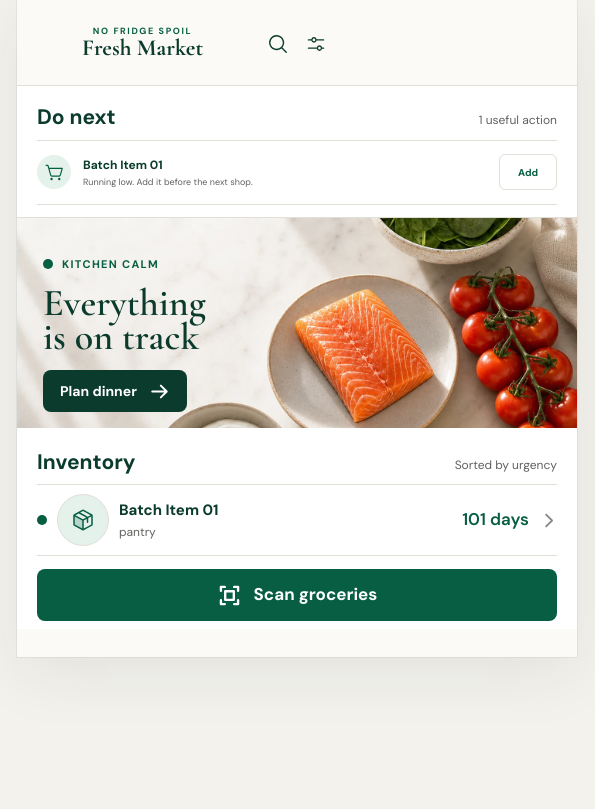
Inventory local-calendar actions › exposes the grocery search field with an accessible name
Click the button named "search inventory": (278, 44) [260,24,296,64]
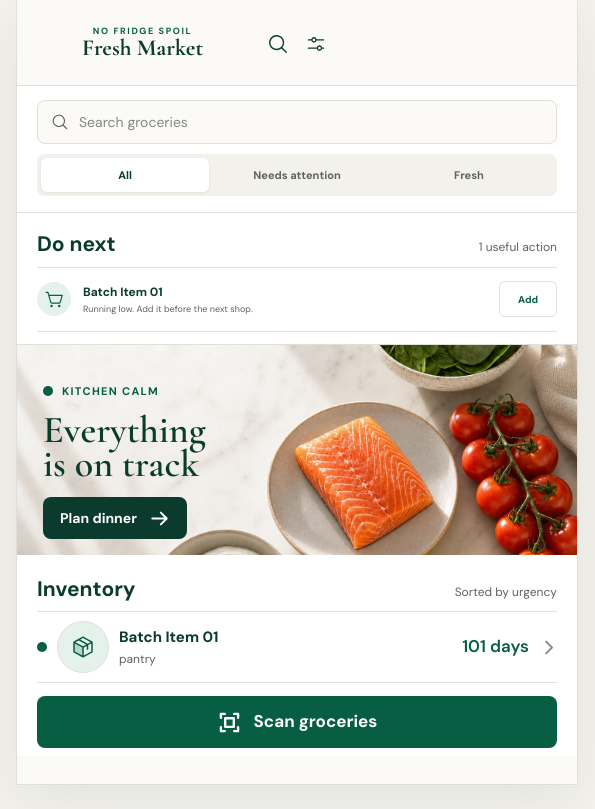
Expected: the field labelled "Search groceries" is shown, [79,112,543,132]
Click the button named "filter inventory": (316, 44) [298,24,334,64]
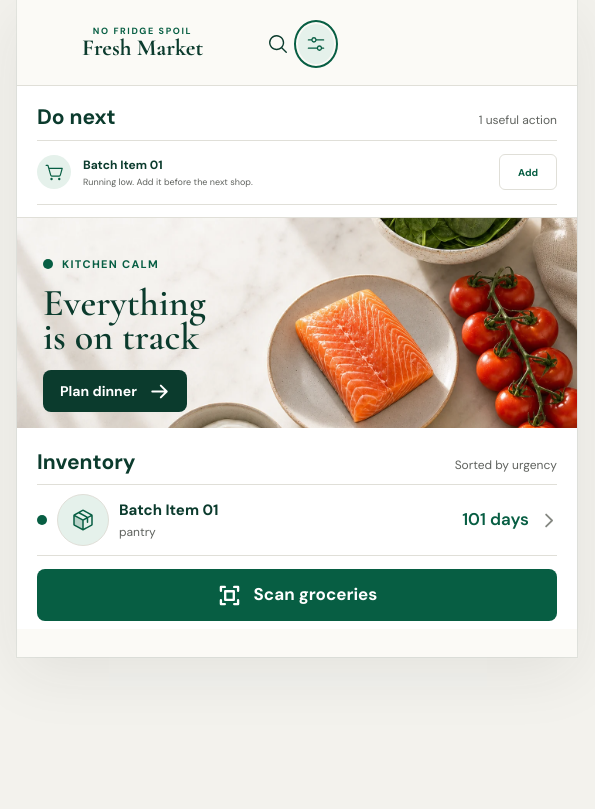
Expected: the field labelled "search groceries" is not shown
Click the button named "filter inventory": (316, 44) [298,24,334,64]
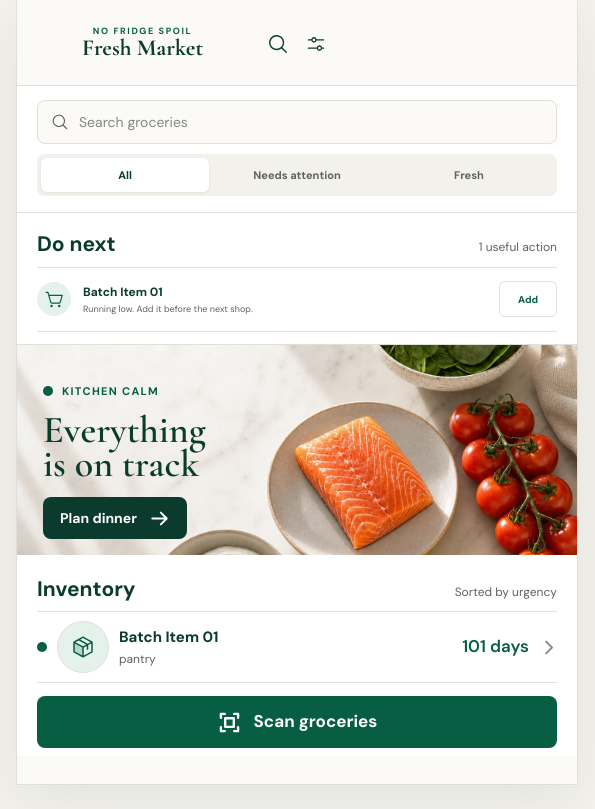
Expected: the field labelled "Search groceries" is shown, [79,112,543,132]
